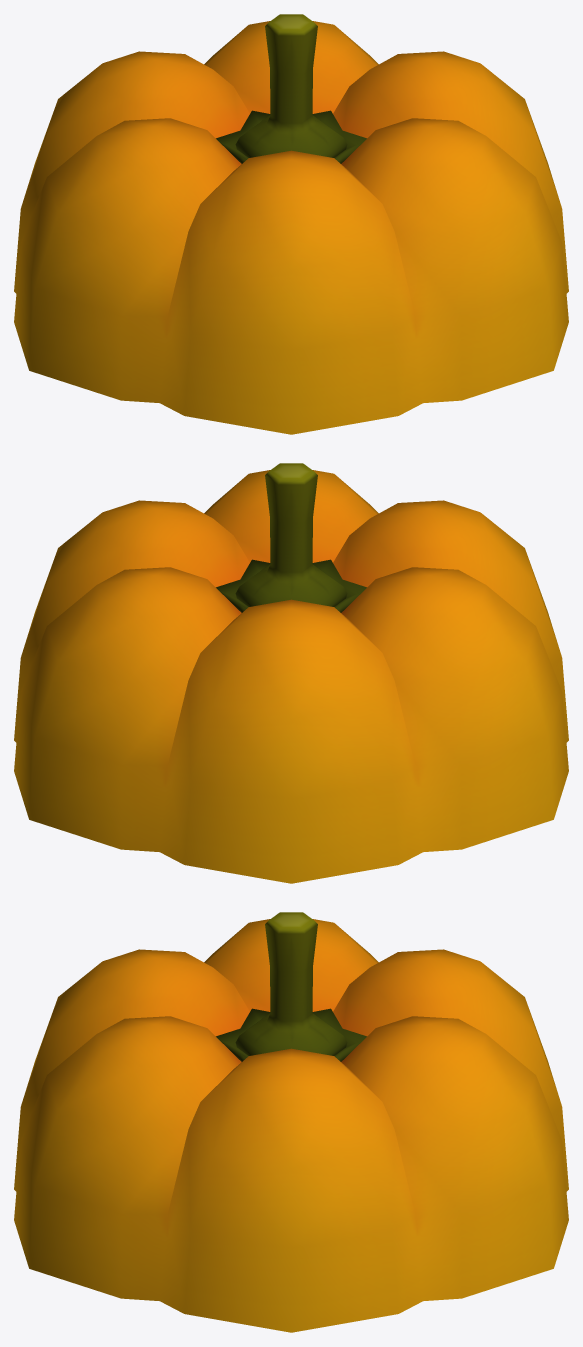
The model's file is Pepper_Y_Half_Top.fbx.
3 views of the same model, one above another, from view 1: azimuth 30°, elevation 25°; view 2: azimuth 150°, elevation 25°; view 3: azimuth 270°, elevation 25° (orthographic).
Visible parts, largest first — view 1: Pepper_Y_Half_Top; view 2: Pepper_Y_Half_Top; view 3: Pepper_Y_Half_Top.
Boxes of the visible parts, x1,y1,x2,y2 form: Pepper_Y_Half_Top: [14, 14, 568, 434]; Pepper_Y_Half_Top: [14, 463, 568, 883]; Pepper_Y_Half_Top: [14, 912, 568, 1332].
Size of the model in its own units: 2.3 by 1.19 by 2.11.
